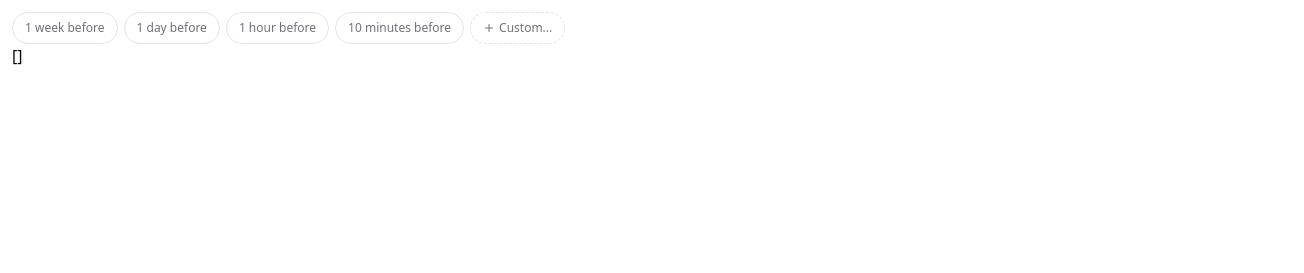
Test: TimerReminderChips › adds a custom offset with the shared select
The width and height of the screenshot is (1304, 273).
Click the button "Custom..." at (518, 28), box [470,12,565,44]
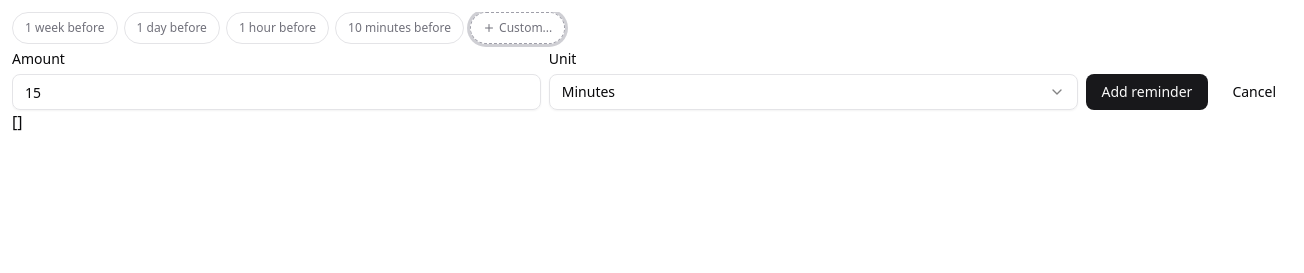
Replace the text in the number field labelled "Amount" with "2" at (276, 92), box [12,74,541,110]
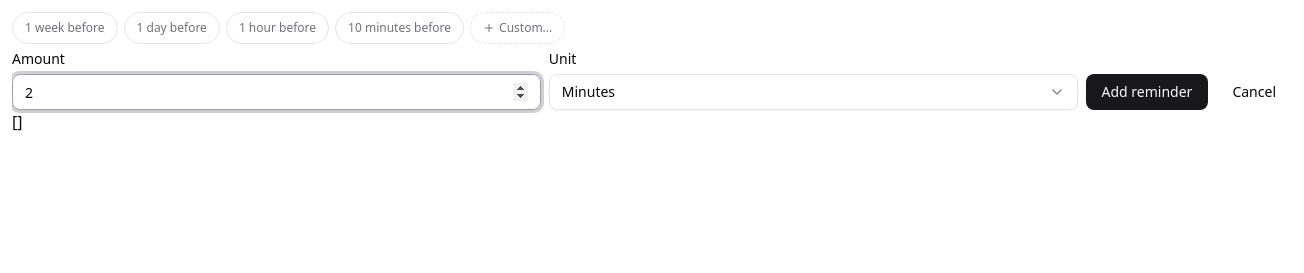
Click the dropdown named "Unit" at (588, 92), box [549,74,1078,110]
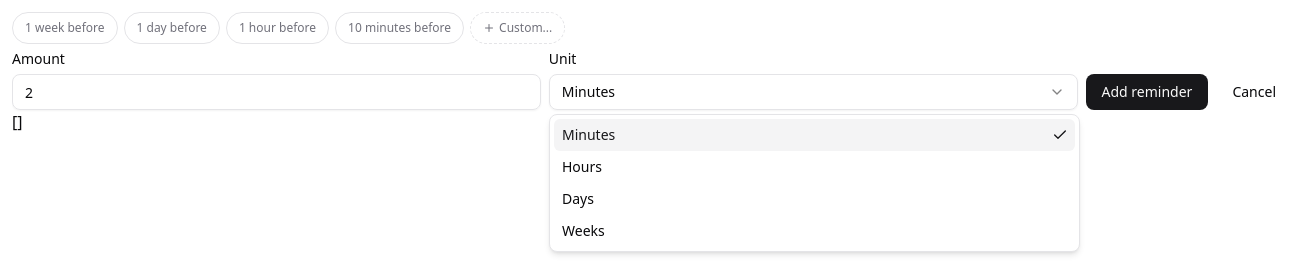
Click the option "Hours" at (582, 166), box [562,157,602,176]
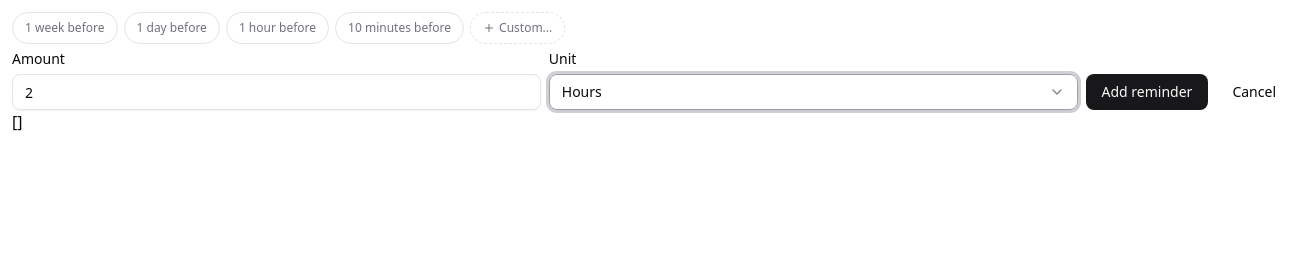
Click the button "Add reminder" at (1147, 92), box [1086,74,1208,110]
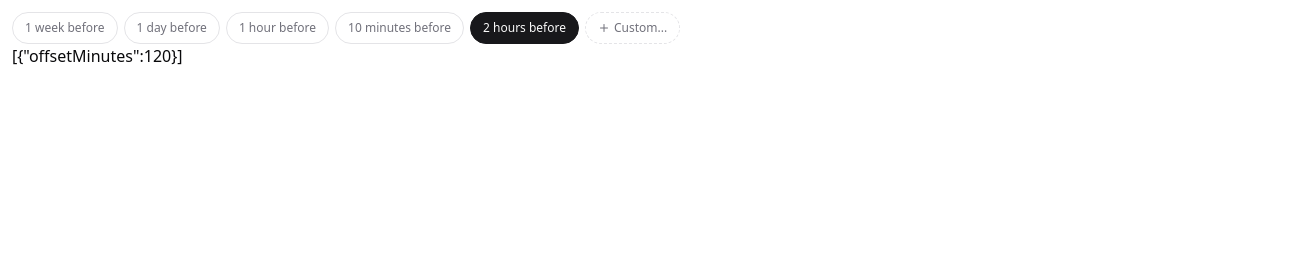
Result: the label labelled "Amount" is gone
